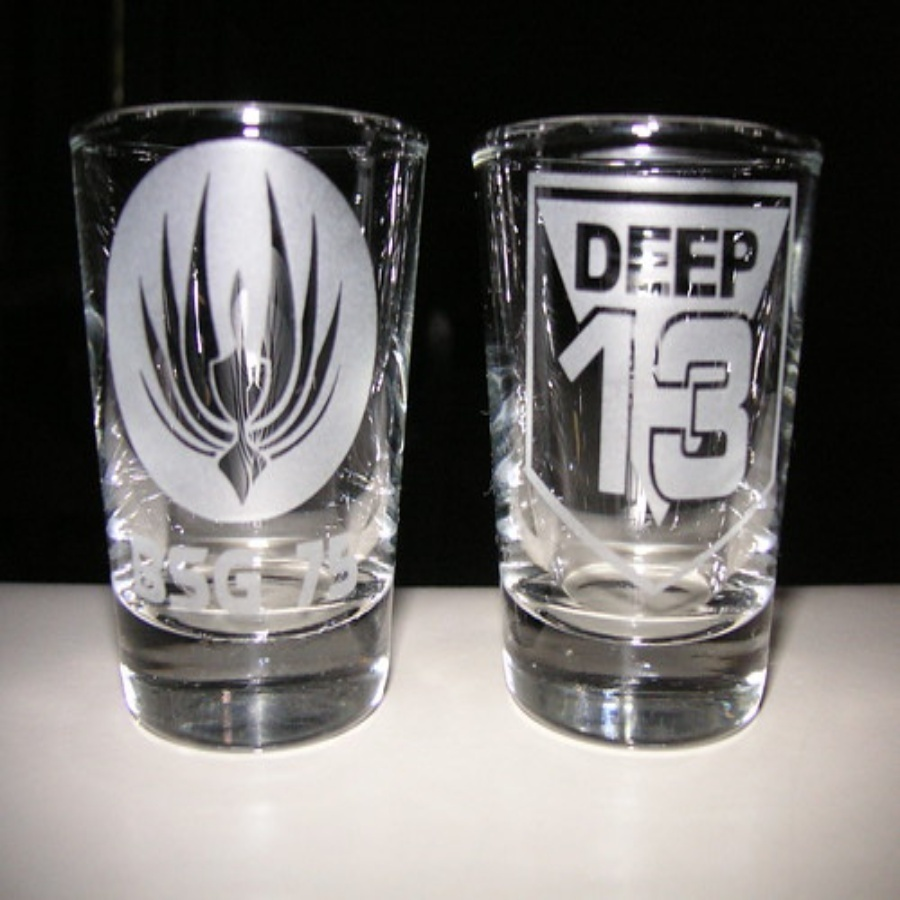whiskey: (483, 111, 822, 754), (87, 93, 426, 736)
